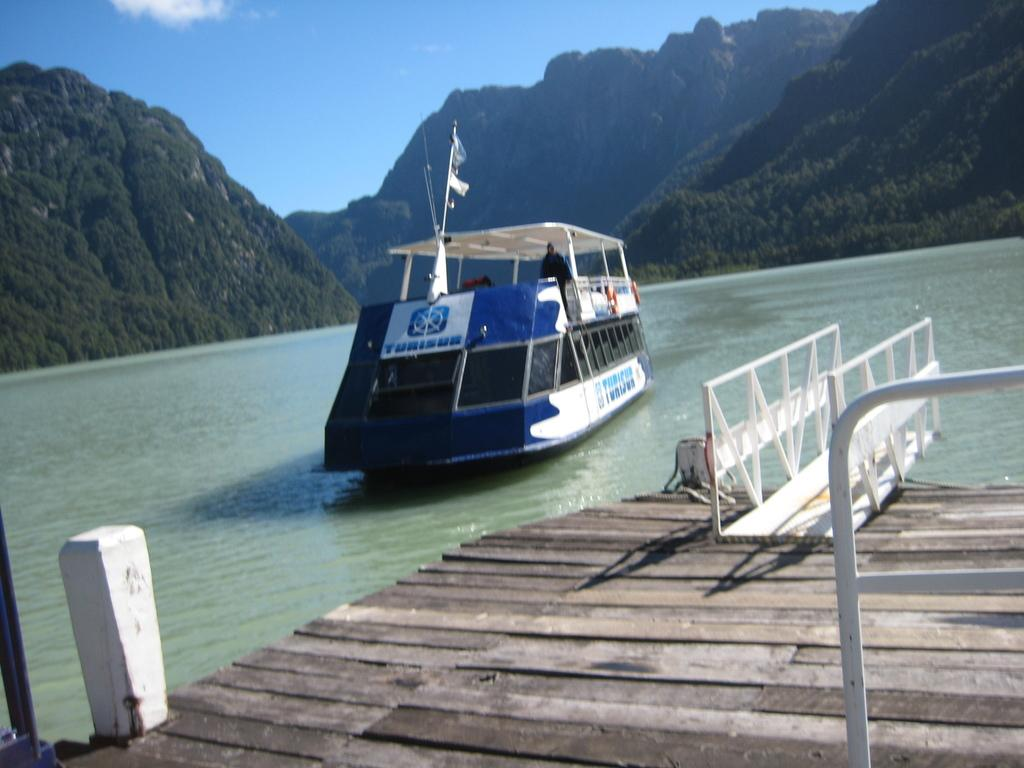PassengerShip: (322, 126, 690, 482)
